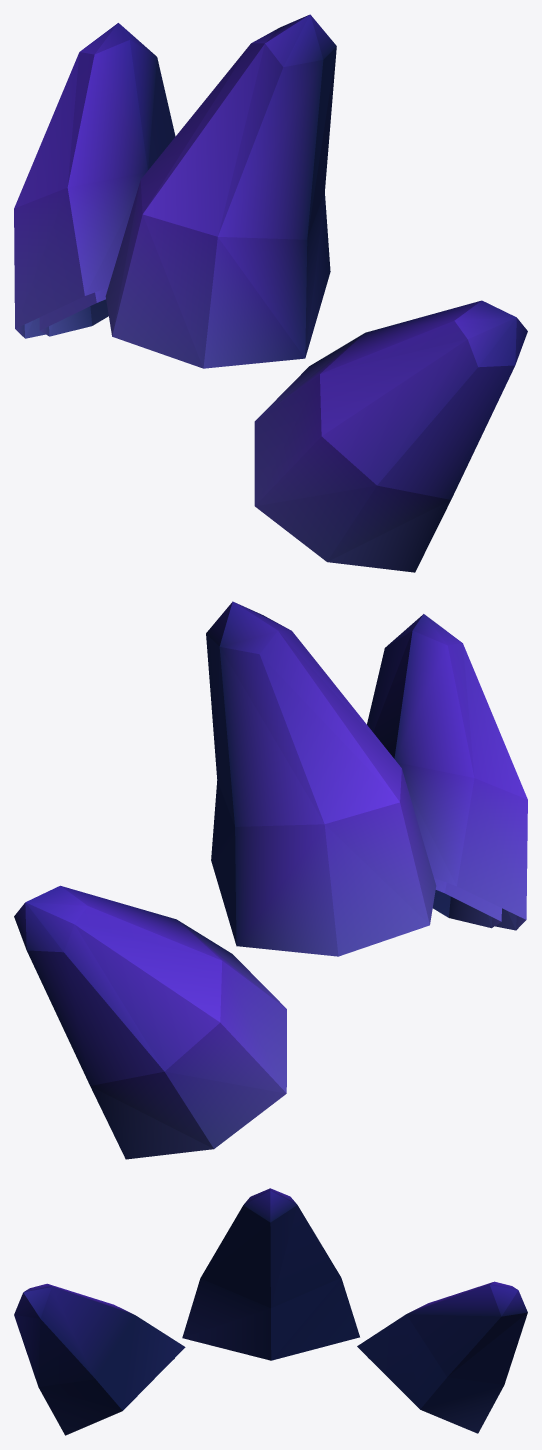
Rendered from pref_fx_Absol_spell01B_buff01_4_lv2.fbx.
The picture shows the model from 3 angles, top to bottom: view 1: azimuth 30°, elevation 25°; view 2: azimuth 150°, elevation 25°; view 3: azimuth 270°, elevation 25°; orthographic projection. The views are drawn at different scales.
Visible parts, largest first — view 1: 0359_nail_01_zx_B, 0359_nail_01_zx_A; view 2: 0359_nail_01_zx_B, 0359_nail_01_zx_A; view 3: 0359_nail_01_zx_B.
Part boxes in pixels (x1=…): 0359_nail_01_zx_B: x1=14, y1=14, x2=527, y2=572; 0359_nail_01_zx_A: x1=39, y1=288, x2=108, y2=336; 0359_nail_01_zx_B: x1=14, y1=601, x2=527, y2=1159; 0359_nail_01_zx_A: x1=433, y1=878, x2=501, y2=928; 0359_nail_01_zx_B: x1=14, y1=1188, x2=527, y2=1435.
Size of the model in its own units: 0.0911 by 0.1598 by 0.2827.
